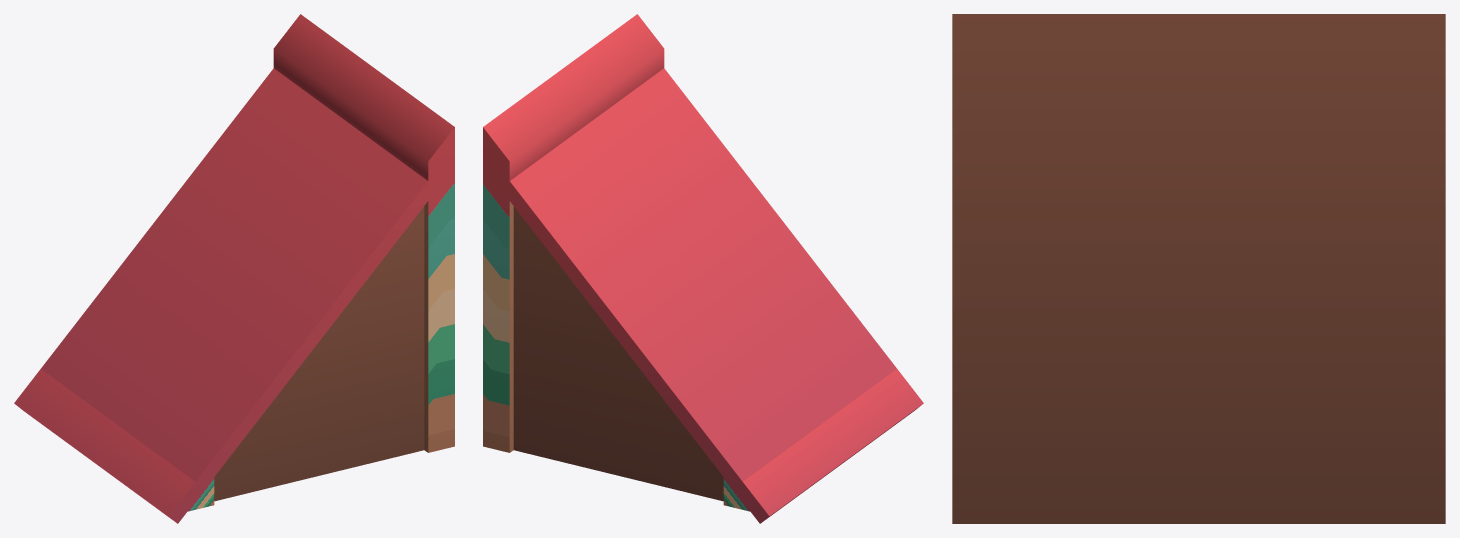
File: roof-high.glb
The picture shows the model from 3 angles, left to right: view 1: azimuth 30°, elevation 25°; view 2: azimuth 150°, elevation 25°; view 3: azimuth 270°, elevation 25°; orthographic projection. The views are drawn at different scales.
Parts seen in each view (by area): view 1: roof-high; view 2: roof-high; view 3: roof-high.
Boxes of the visible parts, bbox=[...] form: roof-high: bbox=[14, 14, 454, 523]; roof-high: bbox=[483, 14, 923, 523]; roof-high: bbox=[952, 14, 1445, 523].
Bounding box in the file's own units: 1.07 × 1.18 × 1.
Materials: 1 (1 with a texture image).
